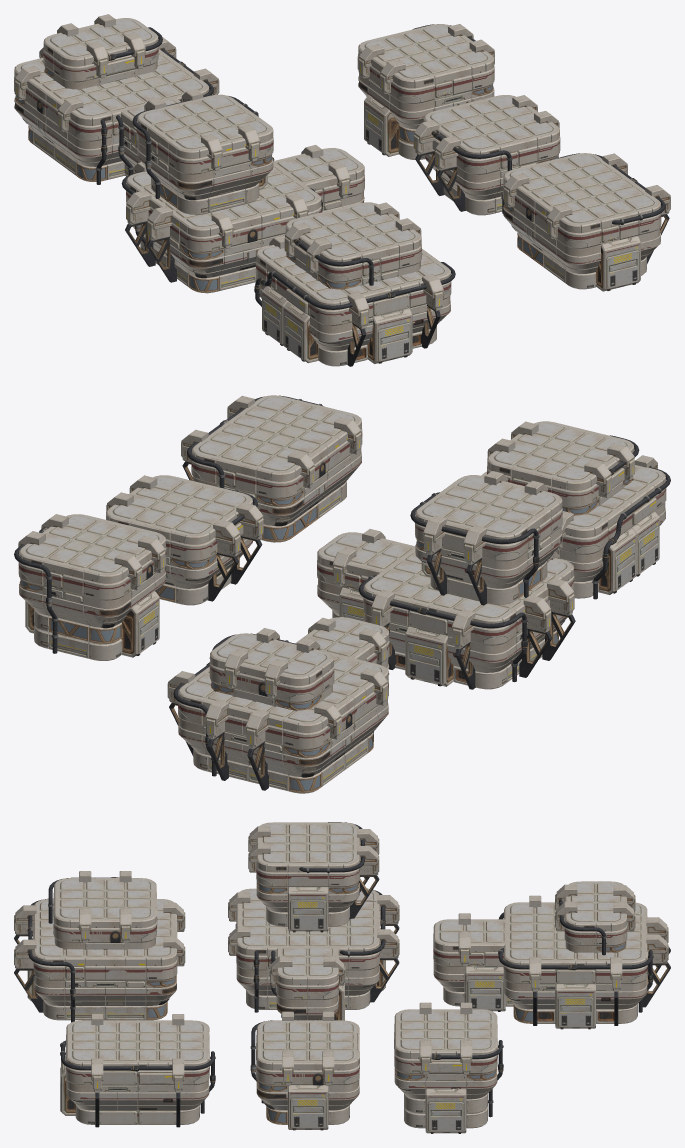
The model's file is sci-fi_buildings_pack.glb.
3 renders of one model, top to bottom at view 1: azimuth 30°, elevation 25°; view 2: azimuth 150°, elevation 25°; view 3: azimuth 270°, elevation 25°, orthographic. The views are drawn at different scales.
Visible parts, largest first — view 1: _gltfNode_11.006_6, _gltfNode_11.005_5, _gltfNode_11.001_1, _gltfNode_11.004_4, _gltfNode_11.002_2, _gltfNode_11.003_3; view 2: _gltfNode_11.006_6, _gltfNode_11.001_1, _gltfNode_11.005_5, _gltfNode_11.002_2, _gltfNode_11.004_4, _gltfNode_11.003_3; view 3: _gltfNode_11.006_6, _gltfNode_11.001_1, _gltfNode_11.005_5, _gltfNode_11.004_4, _gltfNode_11.002_2, _gltfNode_11.003_3.
Boxes of the visible parts, x1,y1,x2,y2 form: _gltfNode_11.006_6: (121, 89, 364, 293); _gltfNode_11.005_5: (254, 202, 455, 366); _gltfNode_11.001_1: (14, 14, 219, 184); _gltfNode_11.004_4: (503, 153, 670, 291); _gltfNode_11.002_2: (357, 24, 494, 159); _gltfNode_11.003_3: (413, 95, 560, 215); _gltfNode_11.006_6: (317, 471, 575, 689); _gltfNode_11.001_1: (167, 617, 389, 793); _gltfNode_11.005_5: (481, 421, 670, 599); _gltfNode_11.002_2: (14, 514, 166, 660); _gltfNode_11.004_4: (181, 395, 362, 542); _gltfNode_11.003_3: (106, 475, 263, 605); _gltfNode_11.006_6: (228, 822, 399, 1020); _gltfNode_11.001_1: (433, 881, 670, 1029); _gltfNode_11.005_5: (14, 871, 185, 1022); _gltfNode_11.004_4: (60, 1014, 215, 1127); _gltfNode_11.002_2: (394, 1002, 503, 1133); _gltfNode_11.003_3: (250, 1011, 359, 1130).
Bounding box in the file's own units: 34.46 × 11.51 × 49.39.
Materials: 2 (2 with a texture image).
